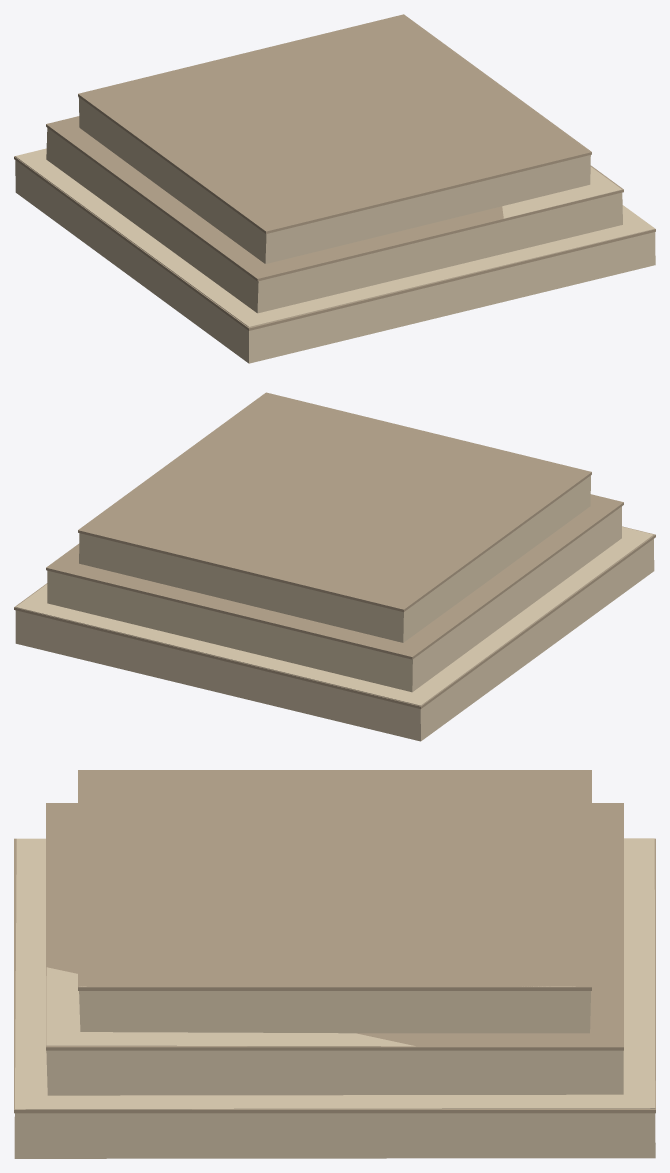
The model's file is building.steps.glb.
3 views of the same model, one above another, from view 1: azimuth 30°, elevation 25°; view 2: azimuth 150°, elevation 25°; view 3: azimuth 270°, elevation 25° (orthographic). The views are drawn at different scales.
Parts seen in each view (by area): view 1: PaintDark, Paint; view 2: PaintDark, Paint; view 3: PaintDark, Paint.
Part boxes in pixels (box(x1,y1,x2,y2)): PaintDark: box(14, 14, 655, 330); Paint: box(15, 97, 655, 363); PaintDark: box(14, 392, 655, 708); Paint: box(15, 475, 654, 741); PaintDark: box(14, 770, 655, 1113); Paint: box(14, 838, 655, 1158).
Size of the model in its own units: 2.01 by 0.5 by 2.01.
